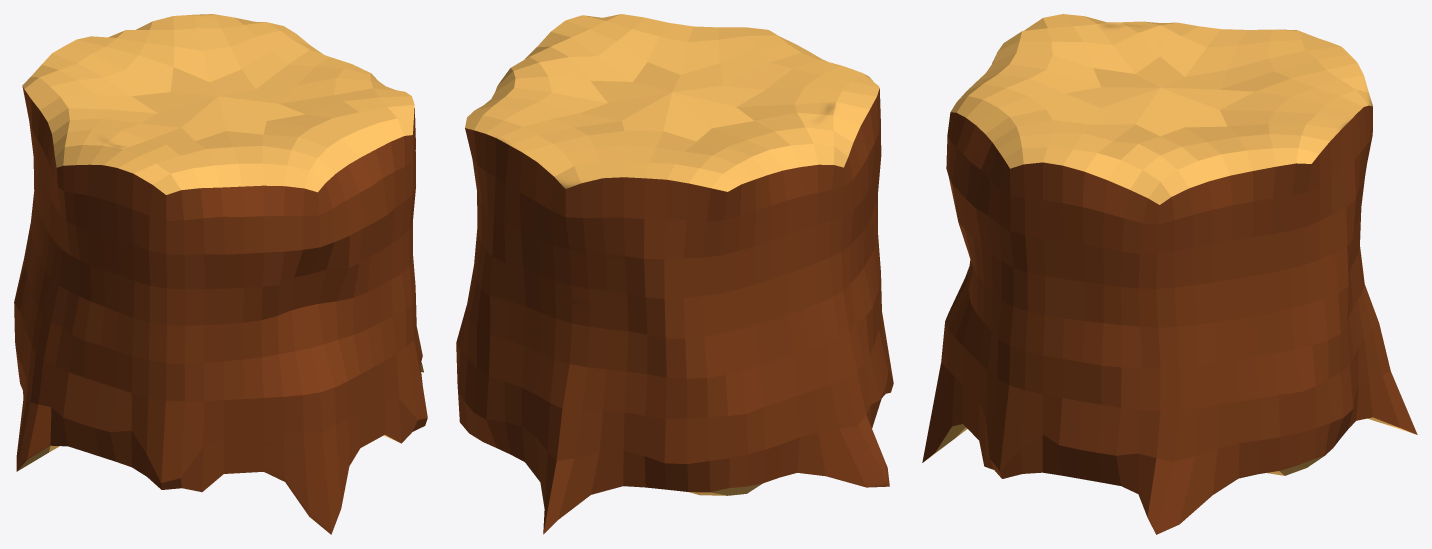
The model's file is Stump.fbx.
3 renders of one model, left to right at view 1: azimuth 30°, elevation 25°; view 2: azimuth 150°, elevation 25°; view 3: azimuth 270°, elevation 25°, orthographic. The views are drawn at different scales.
Parts seen in each view (by area): view 1: Cylinder; view 2: Cylinder; view 3: Cylinder.
Part boxes in pixels (x1=…): Cylinder: x1=14, y1=14, x2=427, y2=534; Cylinder: x1=456, y1=14, x2=893, y2=534; Cylinder: x1=922, y1=14, x2=1417, y2=534.
Size of the model in its own units: 224 by 187 by 223.
